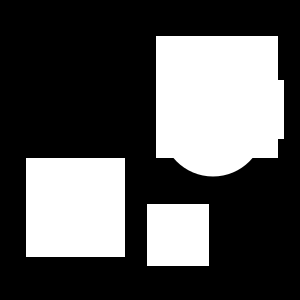circle: (156, 36, 278, 158), (26, 158, 125, 257), (147, 204, 209, 266), (225, 80, 284, 139)
rectangle: (162, 74, 264, 176)
